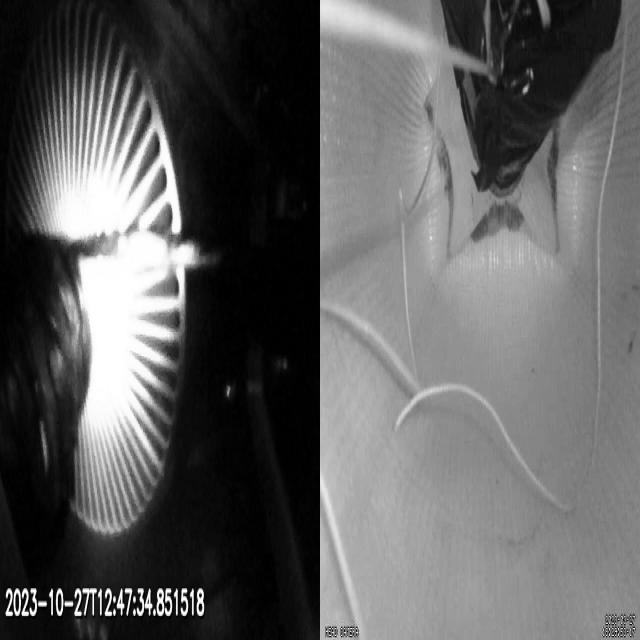head: (425, 101, 560, 258)
